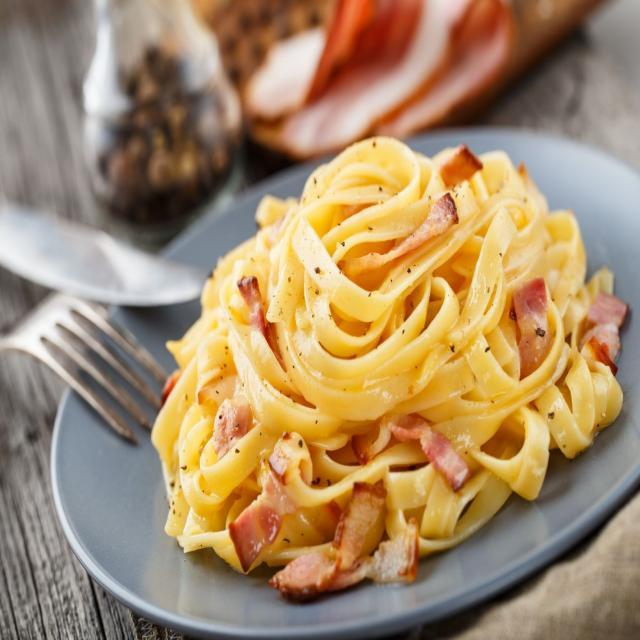Pasta with carbonara sauce: (106, 99, 633, 599)
